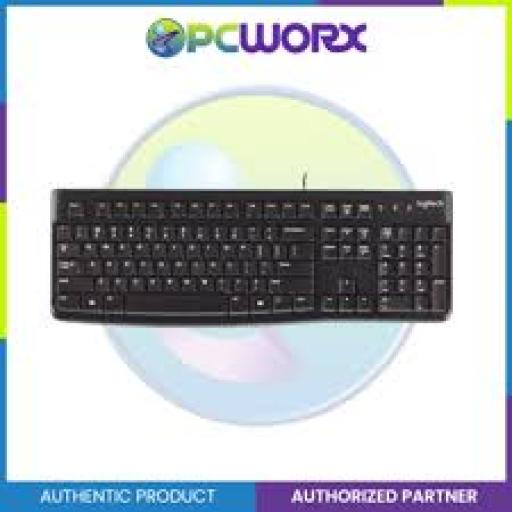keyboard: (50, 191, 451, 319)
